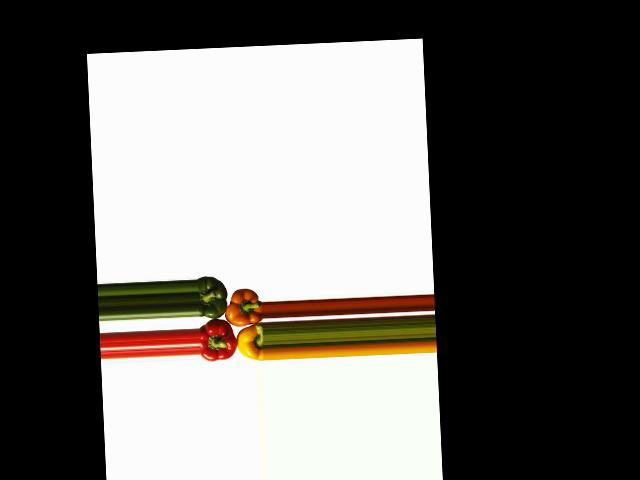bell_pepper: (234, 320, 265, 362)
